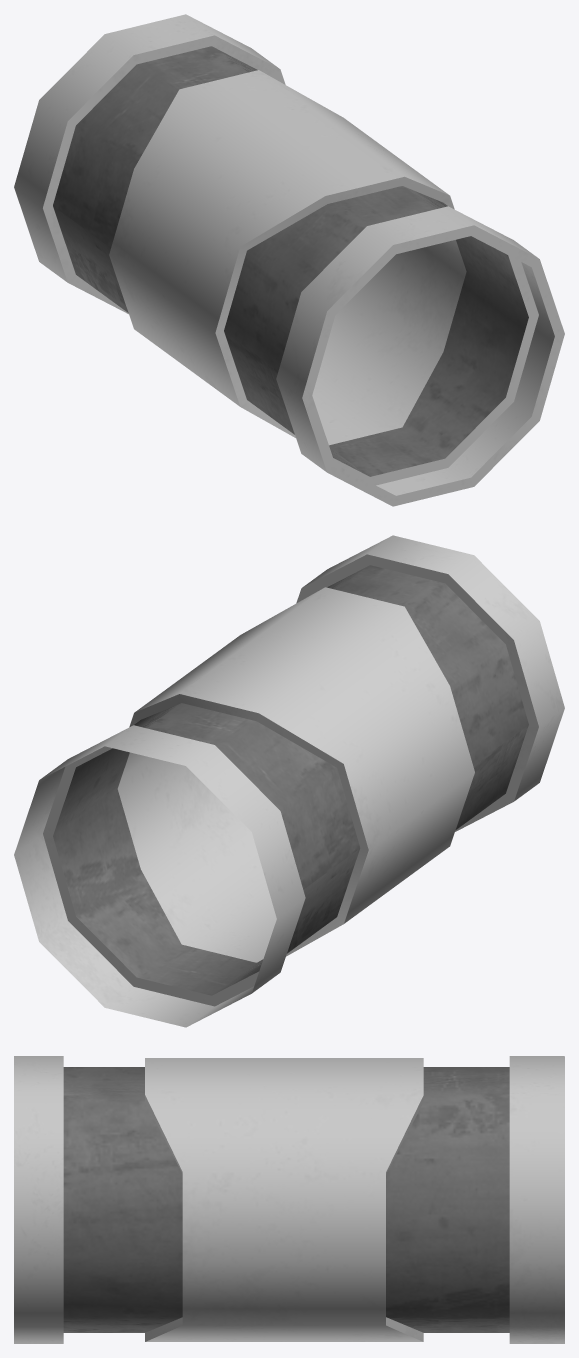
The model's file is Pipe Straight.fbx.
3 renders of one model, top to bottom at view 1: azimuth 30°, elevation 25°; view 2: azimuth 150°, elevation 25°; view 3: azimuth 270°, elevation 25°, orthographic. The views are drawn at different scales.
Parts seen in each view (by area): view 1: NurbsPath.001; view 2: NurbsPath.001; view 3: NurbsPath.001.
Boxes of the visible parts, x1=… form: NurbsPath.001: x1=14, y1=14, x2=564, y2=506; NurbsPath.001: x1=14, y1=535, x2=564, y2=1027; NurbsPath.001: x1=14, y1=1056, x2=564, y2=1343.
Size of the model in its own units: 54.14 by 51.49 by 103.
Materials: 1 (1 with a texture image).
